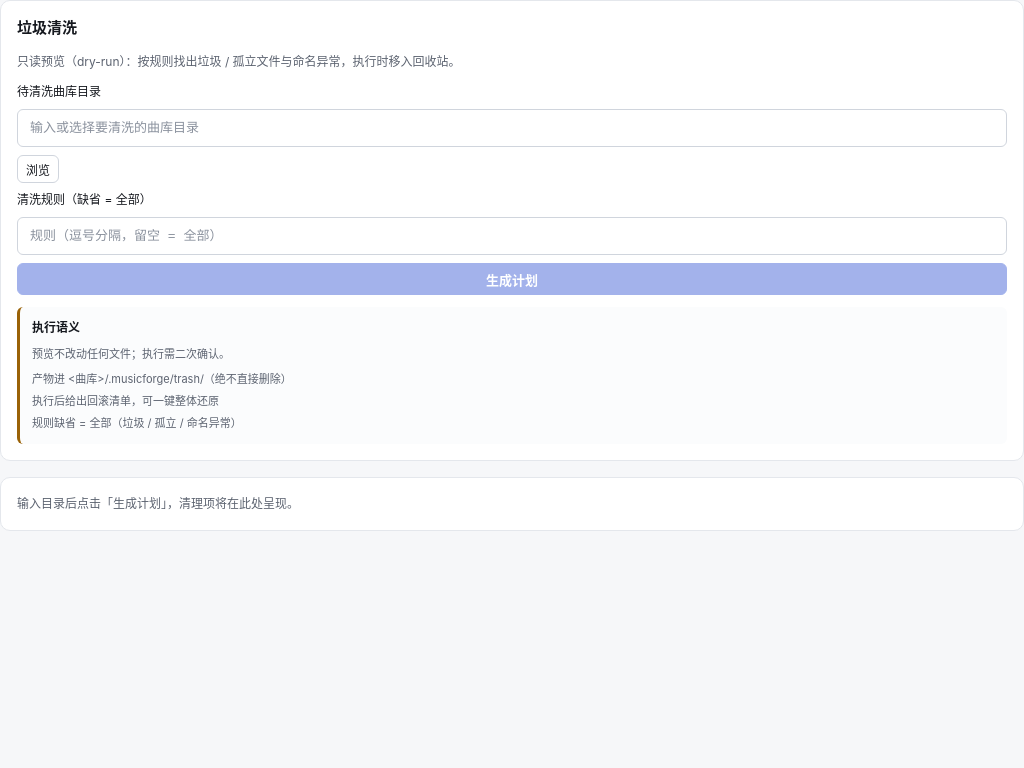
Test: CleanPanel（清洗） › 无可清理项 → 执行按钮禁用（不误触发空操作）
Type "/m/library" into the field with placeholder "输入或选择要清洗的曲库目录" at (512, 128), box [17,109,1007,147]
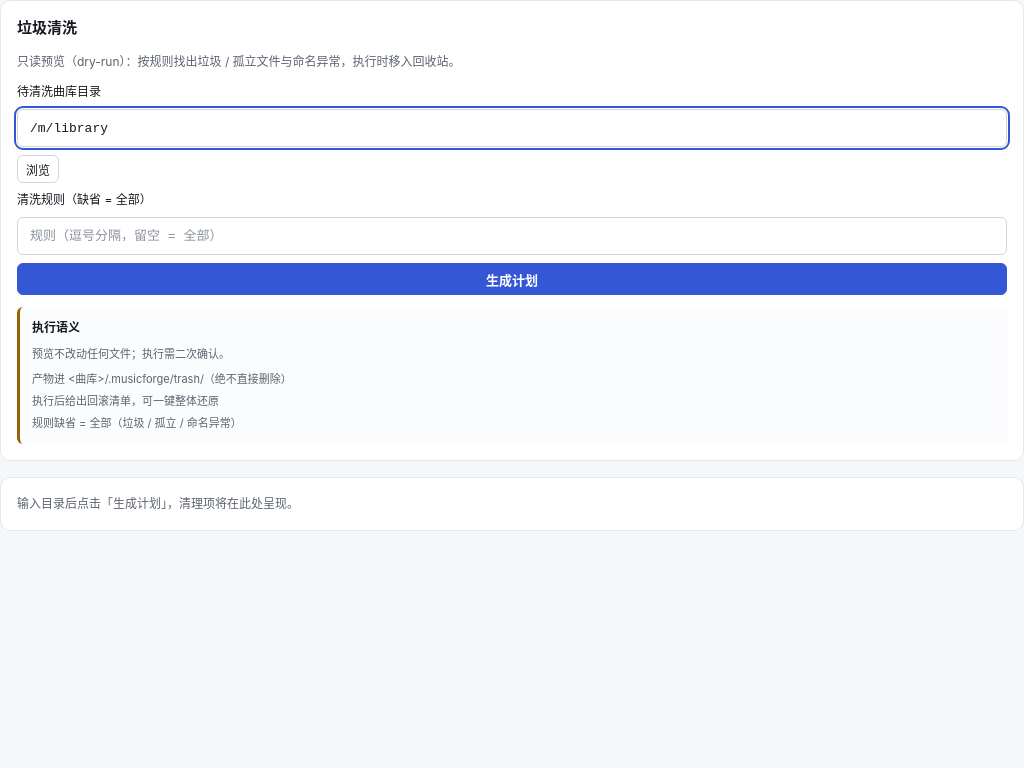
Click the button "生成计划" at (512, 279), box [17,263,1007,295]
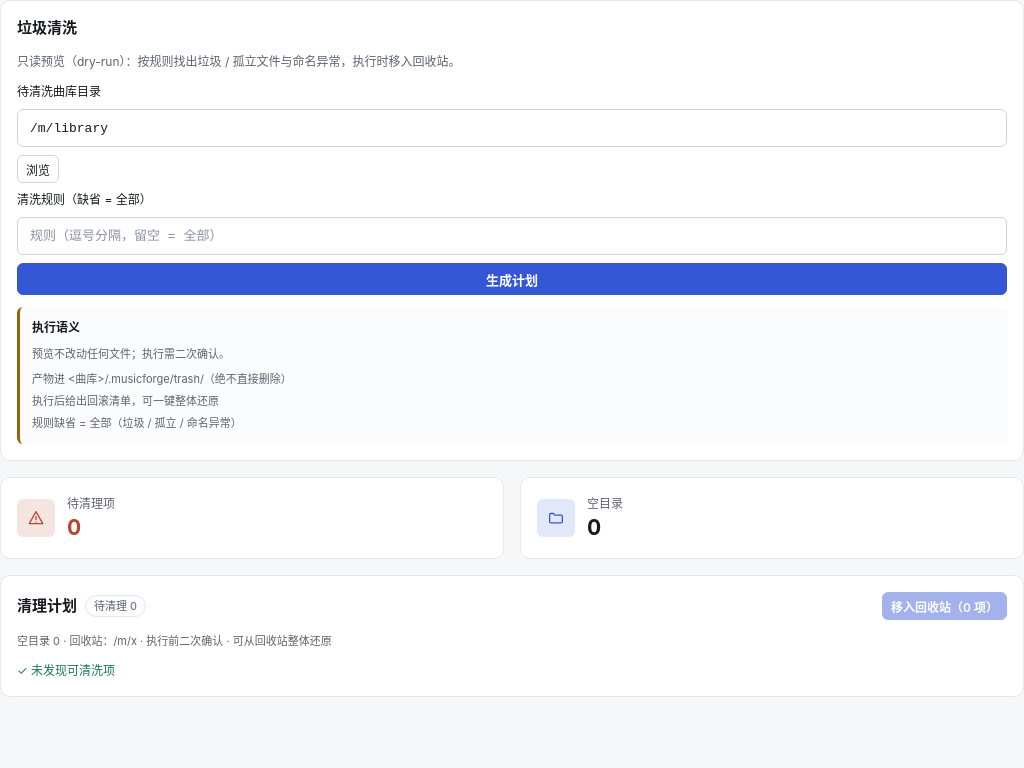
Check: the text "✓ 未发现可清洗项" is shown, box [17,663,115,678]
